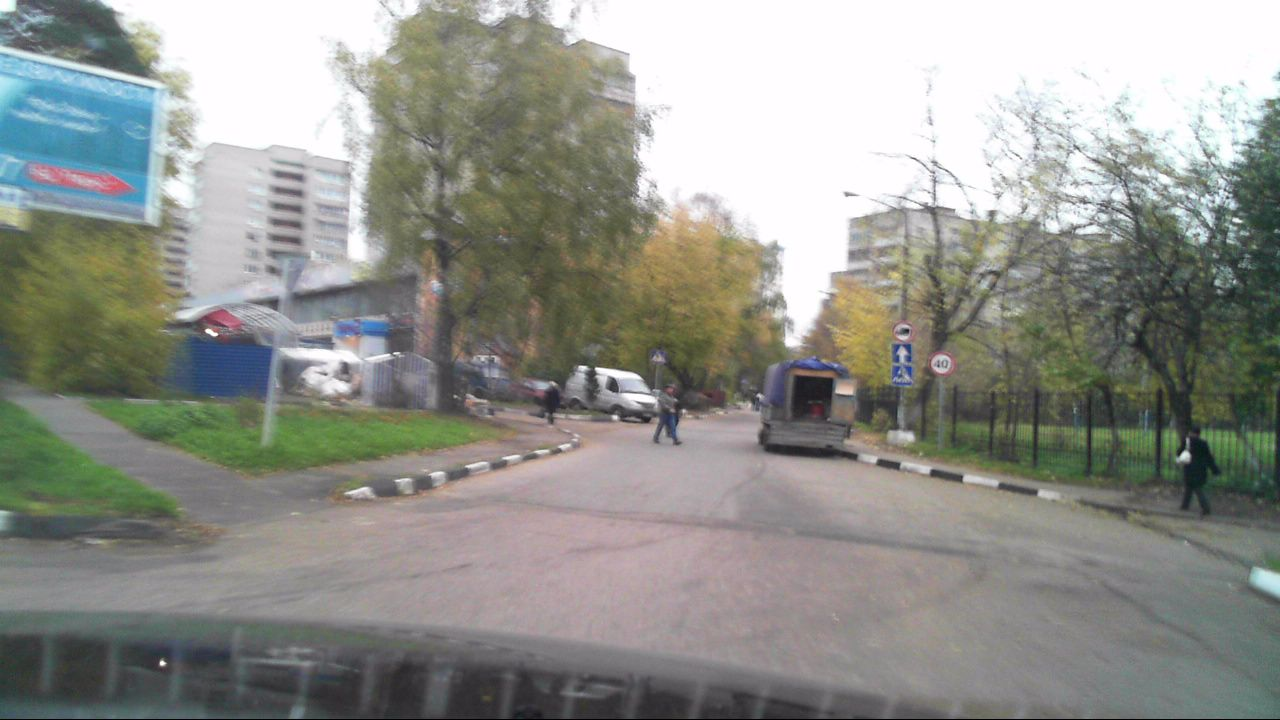speed_warning_40: (930, 353, 952, 376)
